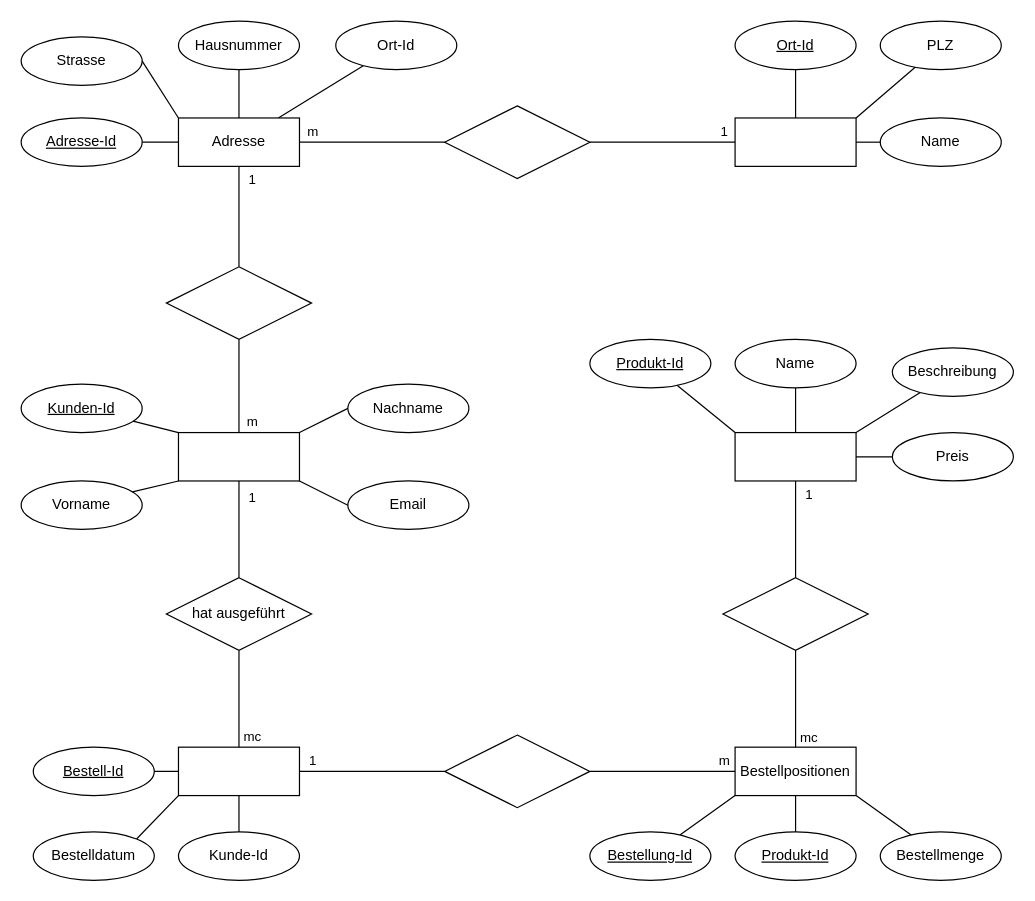
Some shapes in this 1035 by 901 pixel diagram are drawn without their labels. Here are the shapes that lost their labels. From the top down, the centre of each, then its label:
point 516,141: befindet sich in
point 795,141: Ort
point 238,302: wohnt in
point 238,456: Kunde
point 795,456: Produkte
point 795,613: bestellt
point 238,771: Bestellungen
point 516,771: besteht aus
